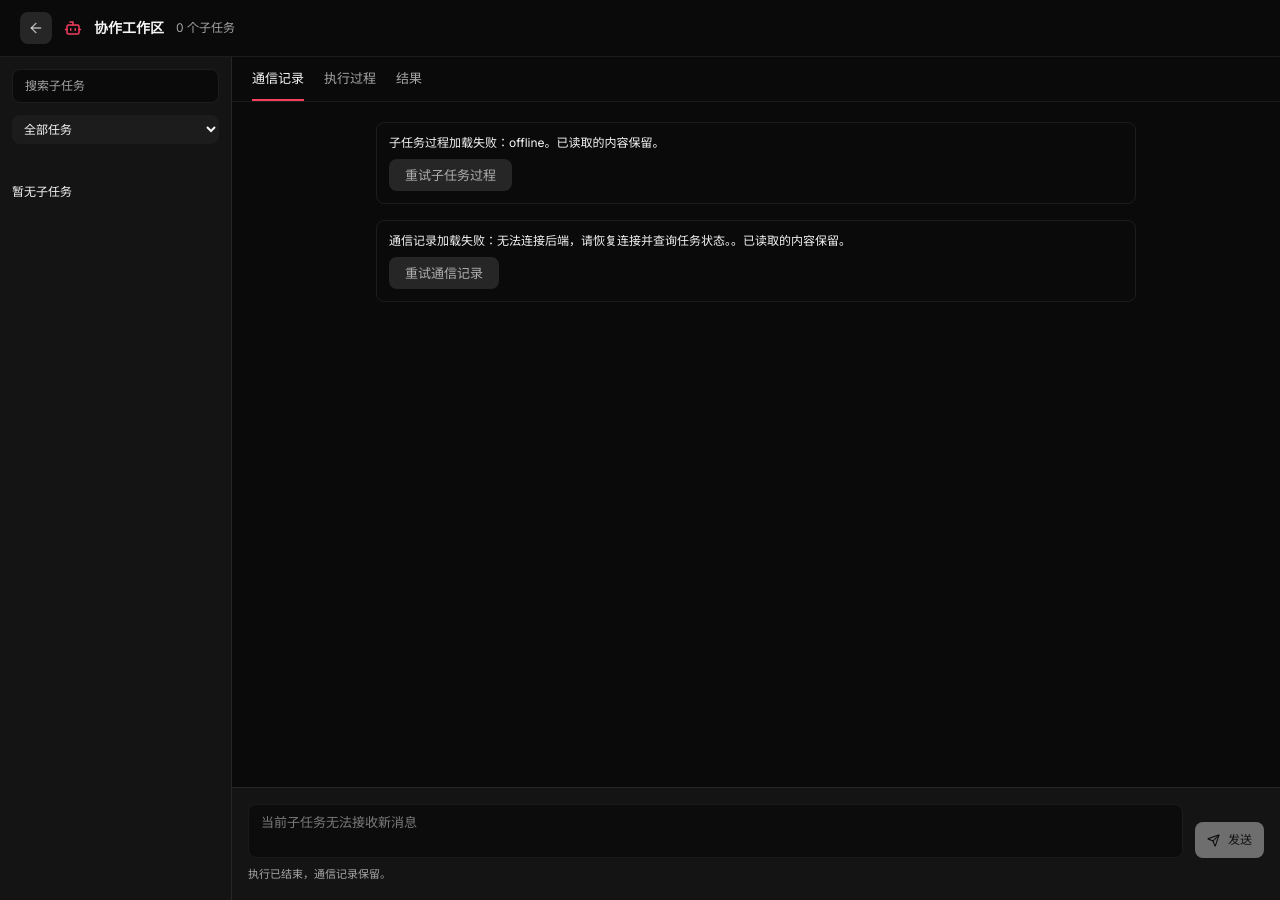
Test: shows a trajectory failure and retries the same subagent
This screenshot has width=1280, height=900.
Expected: the text "子任务过程加载失败：offline。已读取的内容保留。" is shown, [389,135,665,150]
Expected: the text "未找到该子代理" is not shown
What coordinates should you click on to do the following:
click the button "重试子任务过程"
I would click on:
 (450, 175)
Its box is [389,159,512,191].
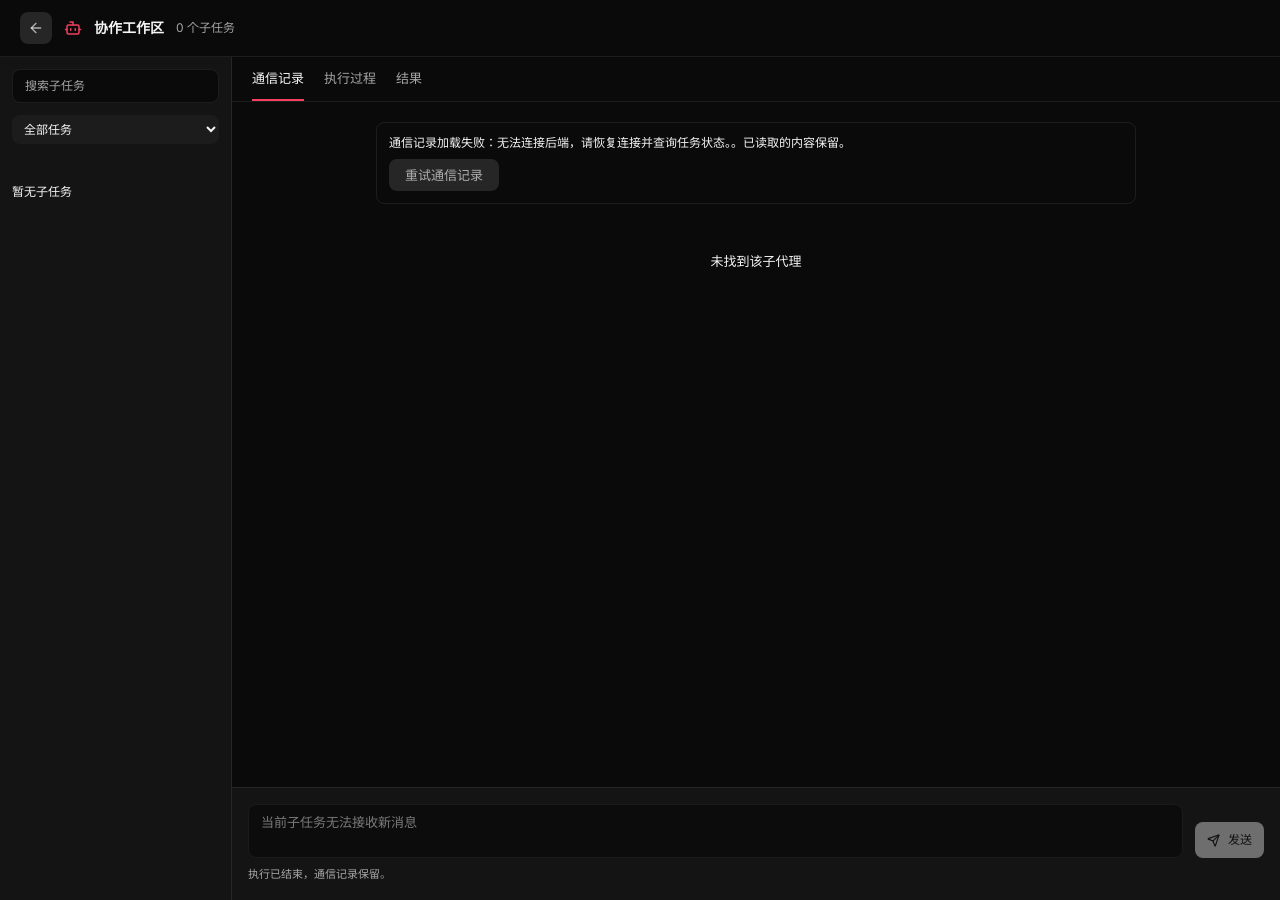
Expected: the text "未找到该子代理" is shown, [710,253,802,269]
